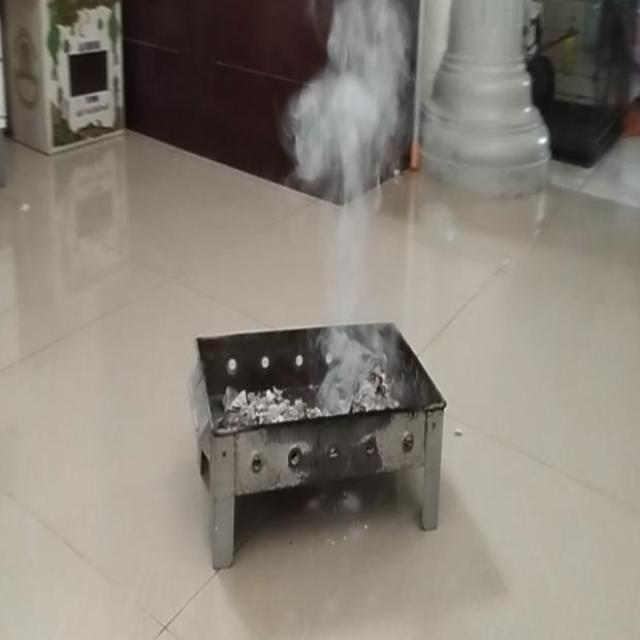fire: (287, 0, 410, 397)
